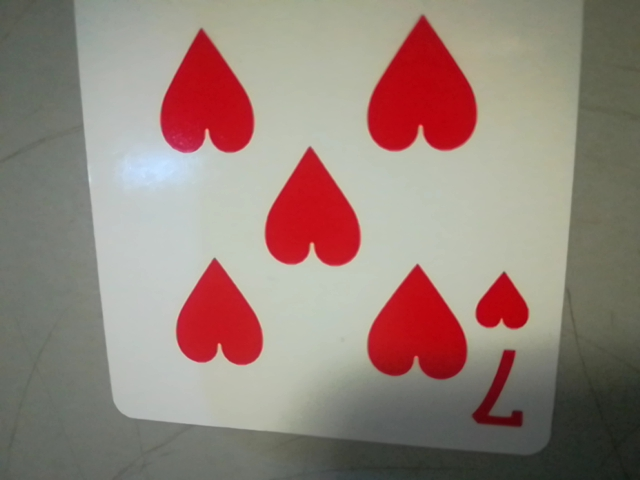hx 7: (461, 261, 553, 438)
